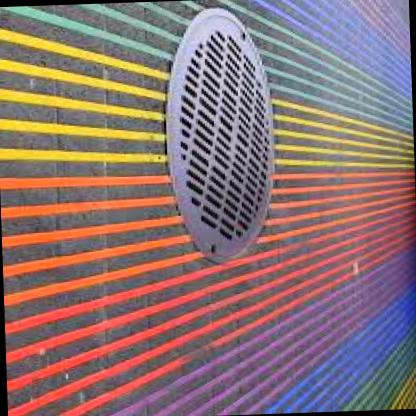manholes: (129, 0, 303, 288)
